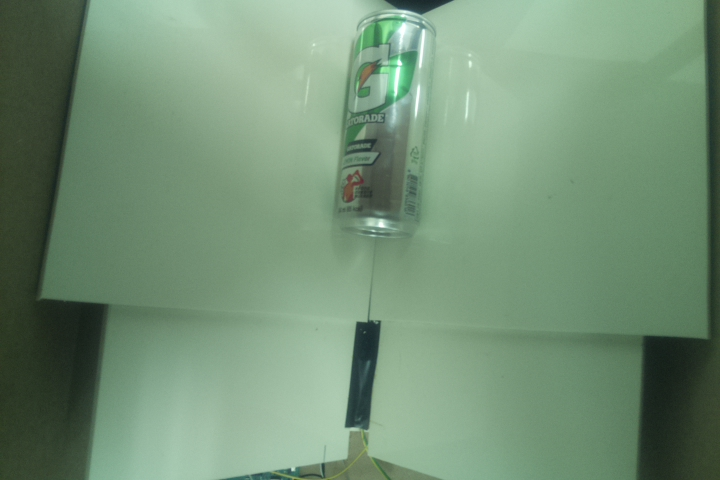can: (330, 4, 437, 243)
